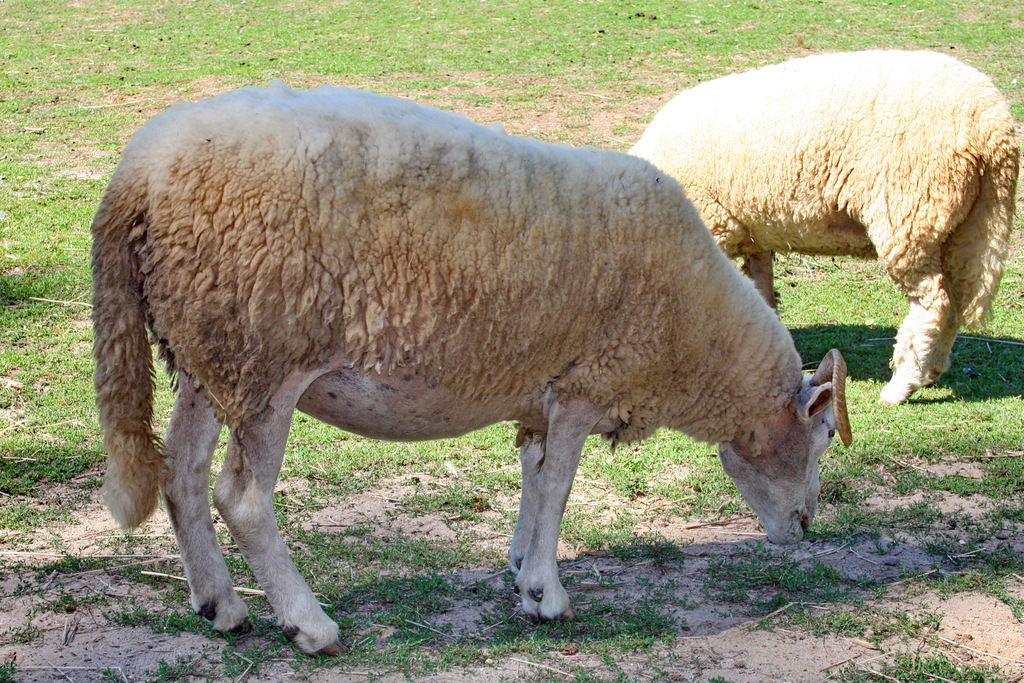sheep: (87, 73, 853, 655)
